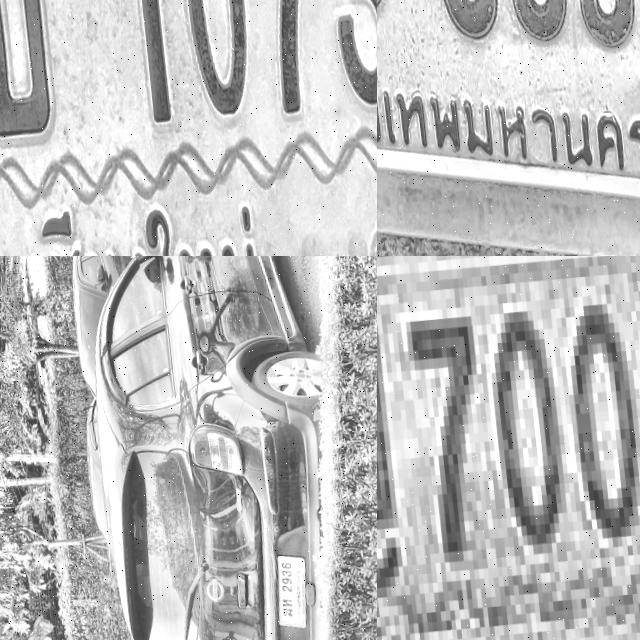license-plate: (377, 256, 640, 640), (0, 0, 377, 256), (377, 0, 640, 256), (0, 605, 38, 640), (284, 423, 316, 458)
